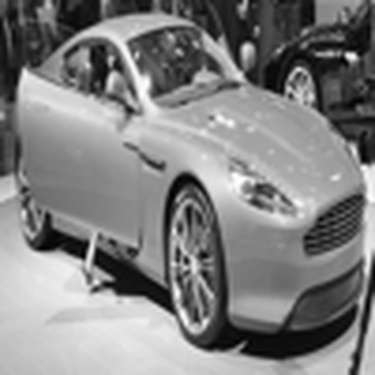car: (9, 10, 369, 352), (259, 1, 372, 163)
